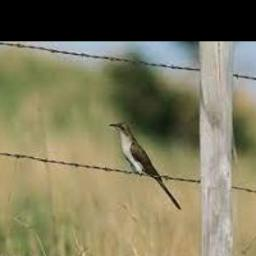Cuckoo: (108, 121, 180, 210)
